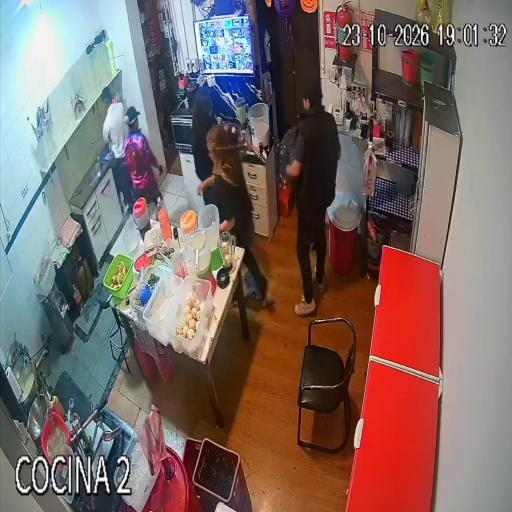Balde: (249, 103, 270, 149)
Cernidor: (190, 232, 207, 275)
Envase Llajua: (52, 395, 64, 418)
Jarra1: (133, 198, 149, 229)
Jarra2: (180, 210, 197, 241)
Jarra3: (198, 204, 223, 271)
Licuadora2: (235, 97, 251, 148)
Microondas: (171, 109, 193, 154)
Persona1: (287, 88, 340, 315)
Persona2: (200, 126, 271, 303)
Persona3: (101, 87, 134, 207)
Persona4: (192, 87, 217, 181), (205, 191, 216, 204)
Persona5: (125, 107, 161, 203)
Taper: (103, 254, 133, 299)
Taper2: (128, 267, 163, 328)
Taper3: (143, 271, 182, 345)
Taper4: (164, 276, 213, 359)
Taper5: (114, 430, 158, 512)
